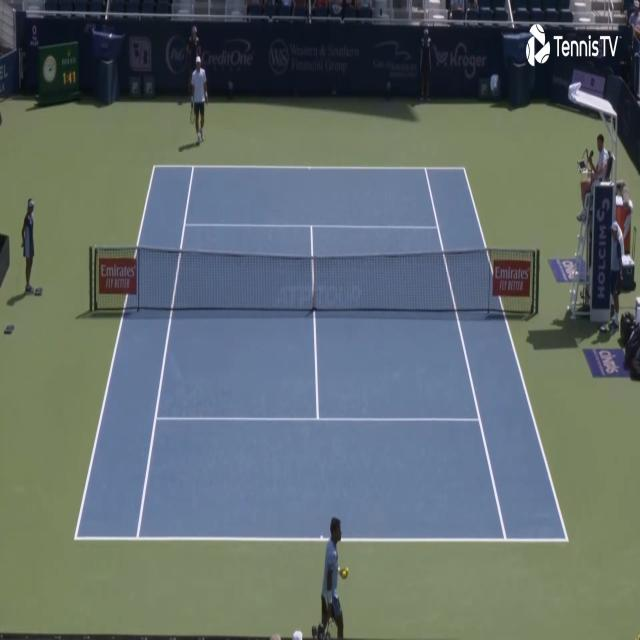tennis-player: (319, 506, 350, 637), (188, 54, 209, 147)
